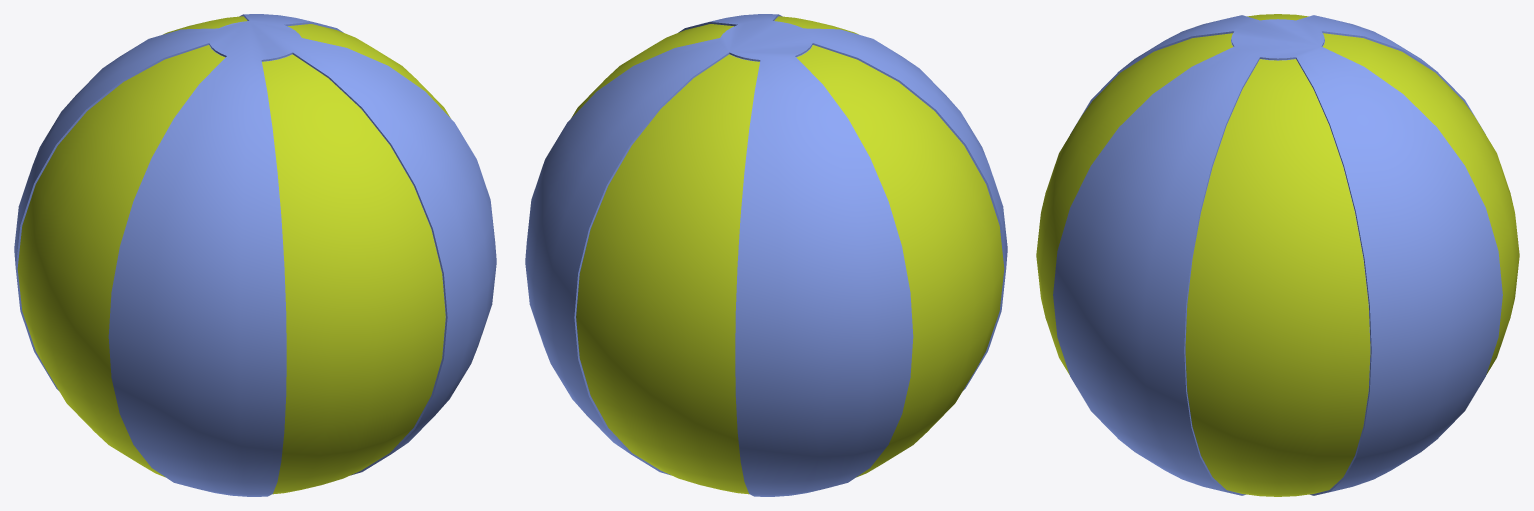
The model's file is Waterpolo.fbx.
The picture shows the model from 3 angles, left to right: view 1: azimuth 30°, elevation 25°; view 2: azimuth 150°, elevation 25°; view 3: azimuth 270°, elevation 25°; orthographic projection.
Visible parts, largest first — view 1: Waterpolo; view 2: Waterpolo; view 3: Waterpolo.
Boxes of the visible parts, x1,y1,x2,y2 form: Waterpolo: (14,14,496,496); Waterpolo: (525,14,1007,496); Waterpolo: (1036,14,1519,496).
Size of the model in its own units: 30 by 29.67 by 30.
